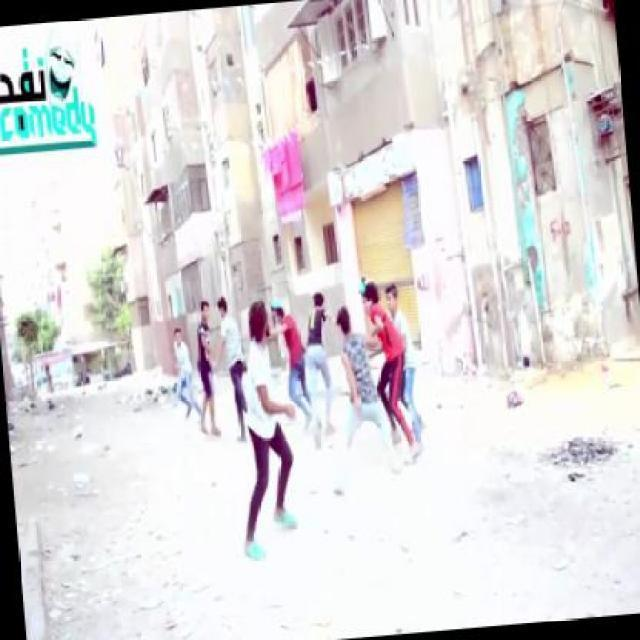fight: (331, 276, 417, 476)
non-fight: (230, 294, 306, 555), (292, 286, 338, 443), (188, 294, 225, 440), (170, 324, 198, 428)
